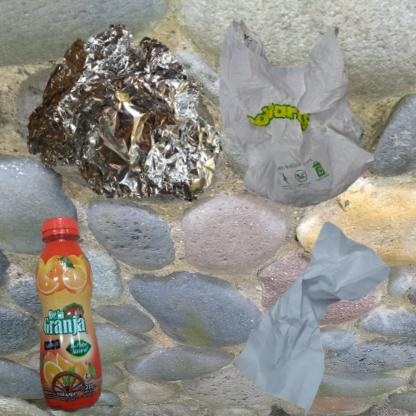aluminio: (10, 10, 233, 229)
bolsa: (213, 10, 380, 216)
botella: (10, 213, 141, 416)
papel: (213, 213, 414, 416)
